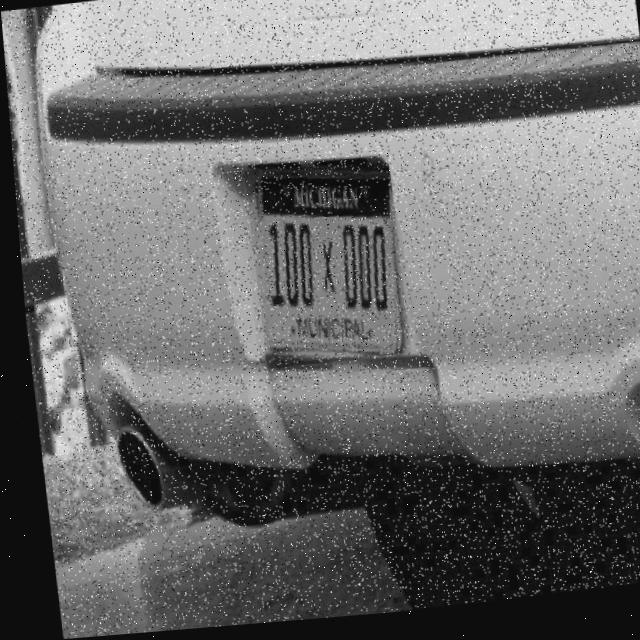LicensePlate: (255, 173, 389, 360)
